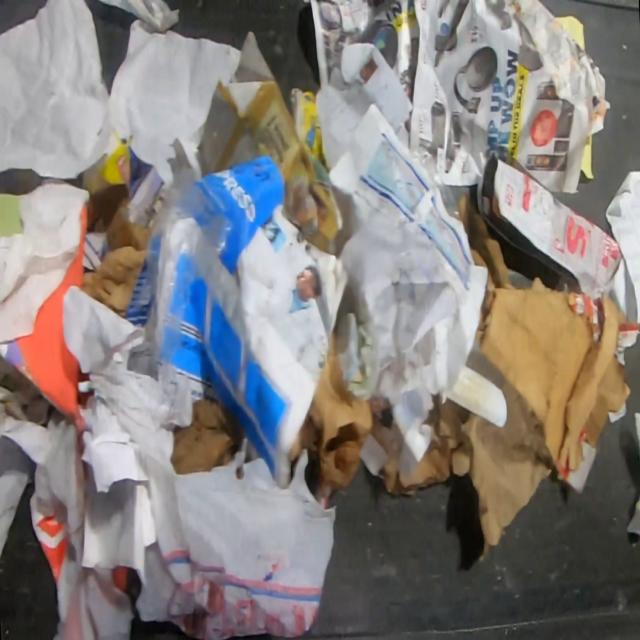cardboard: (458, 190, 640, 496), (372, 349, 553, 561), (197, 28, 348, 255), (295, 325, 375, 490), (79, 138, 148, 319), (171, 397, 243, 474)
soft_plastic: (134, 435, 338, 640), (142, 161, 234, 428), (32, 408, 135, 640), (406, 144, 462, 221)
